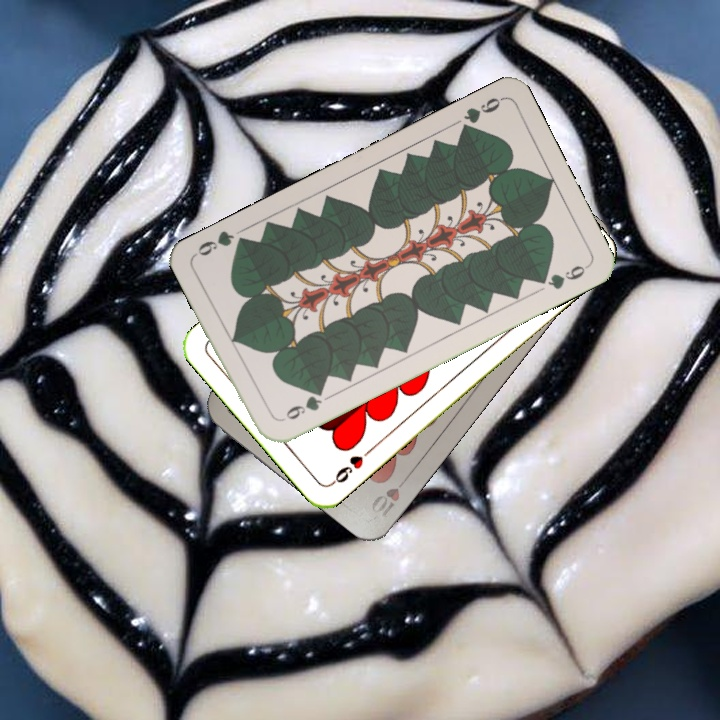G9: (456, 93, 505, 137), (281, 385, 327, 423)
H10: (367, 470, 412, 521)
H9: (327, 444, 375, 488)
